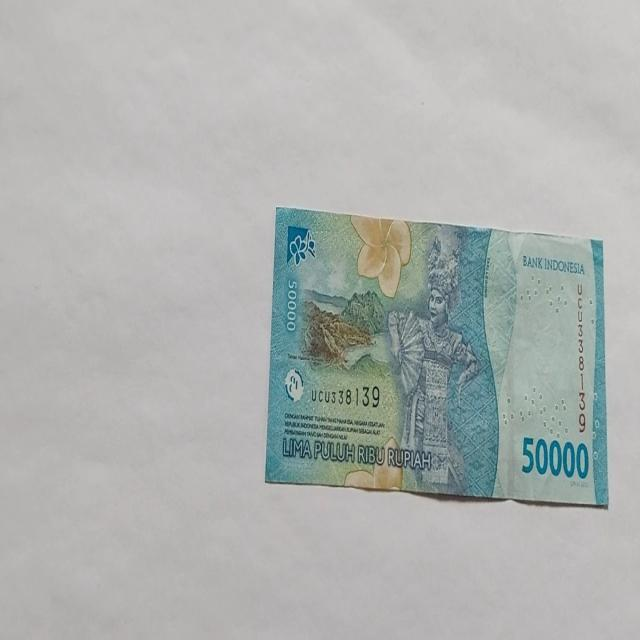lima puluh ribu rupiah: (264, 205, 608, 507)
